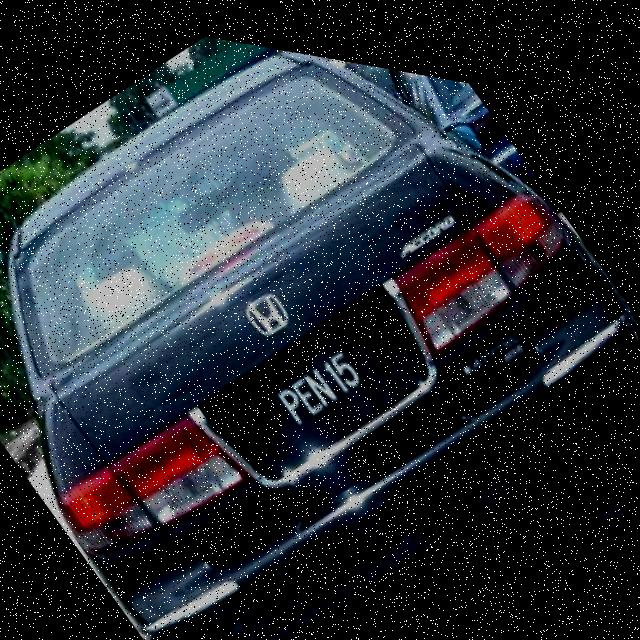license_plate: (198, 247, 438, 502)
